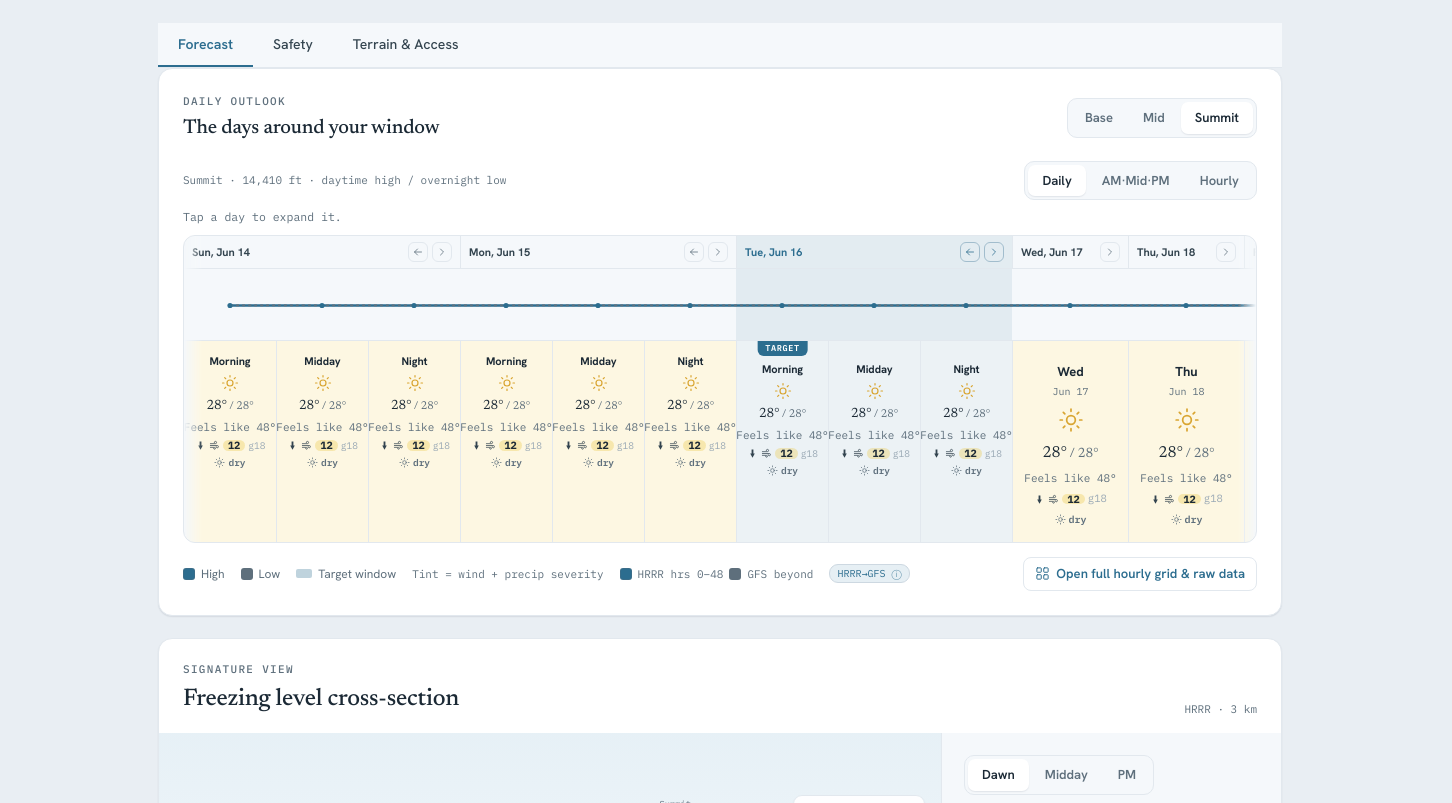
Scenario: MountainDetail — Safety tab › renders the ParkAlerts panel only when the mountain has an npsParkCode
The width and height of the screenshot is (1452, 803).
Click the tab "Safety" at coordinates (293, 45), box [253,23,333,67]
(page scrolled)
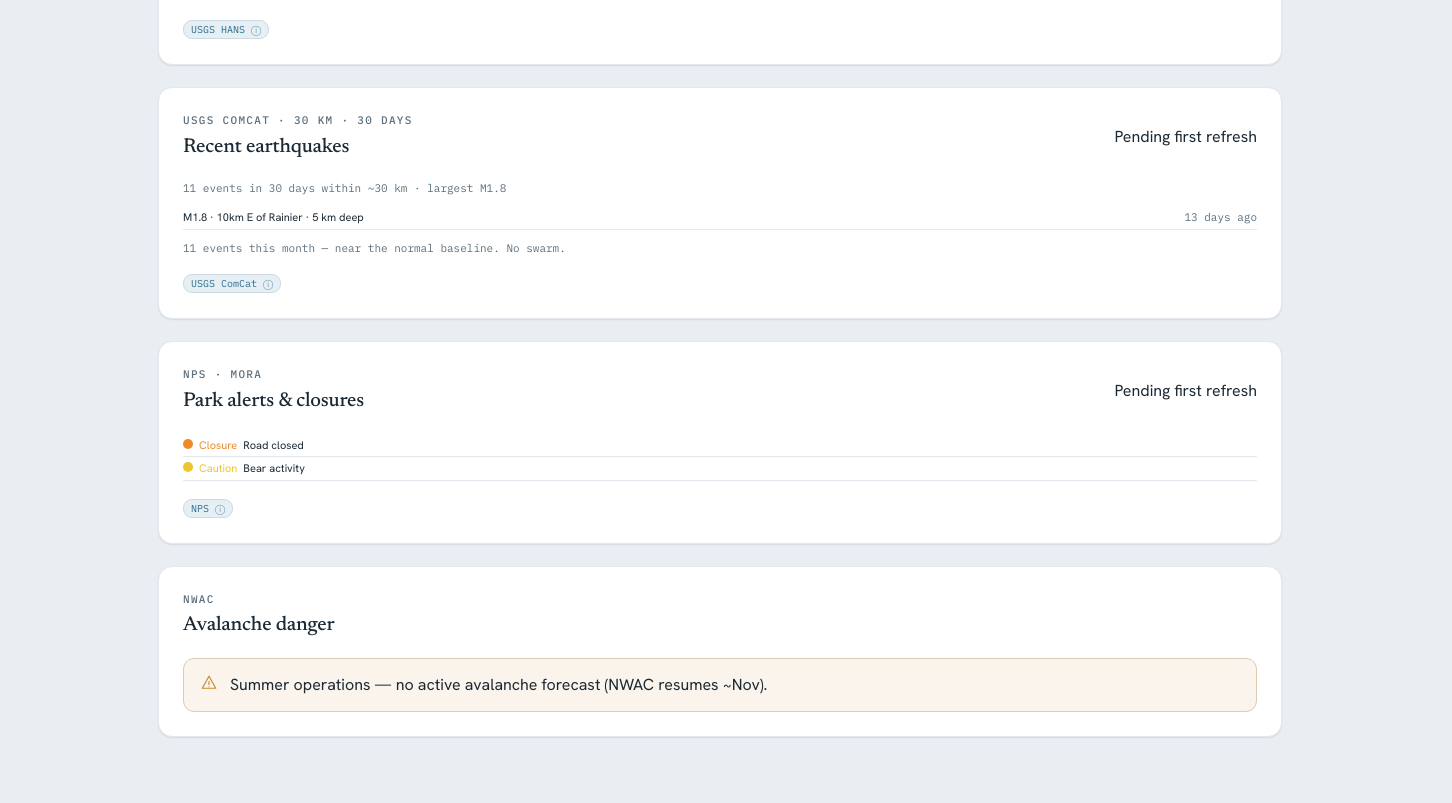
Now the heading "Park alerts & closures" is shown, box [183,386,364,416]
